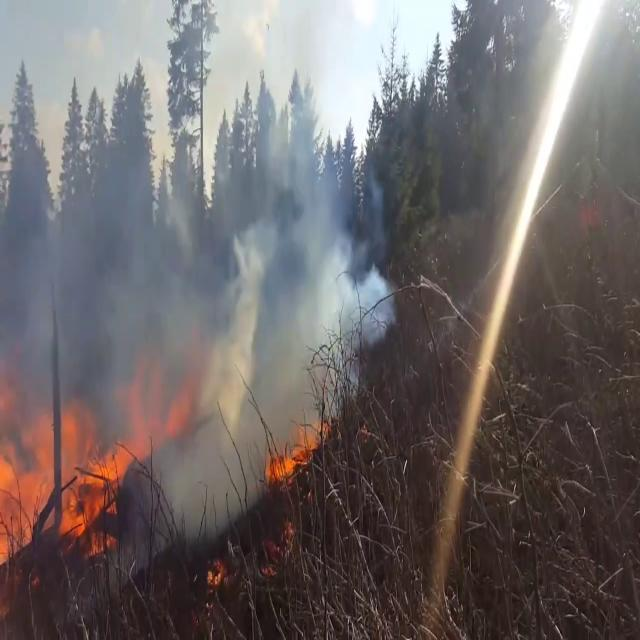Fire: (0, 376, 131, 594), (264, 406, 324, 488)
Smoke: (0, 61, 382, 492)
